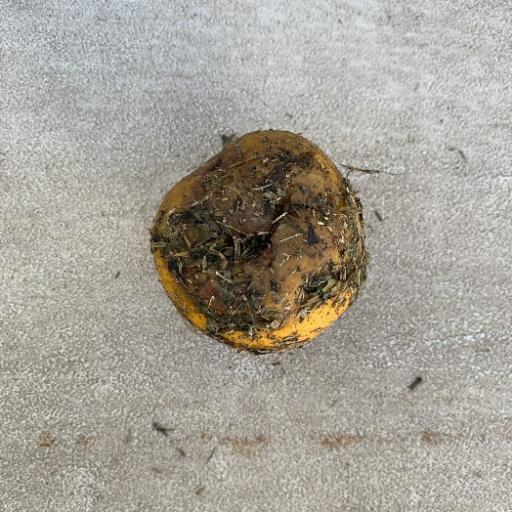Waste: (148, 127, 370, 355)
